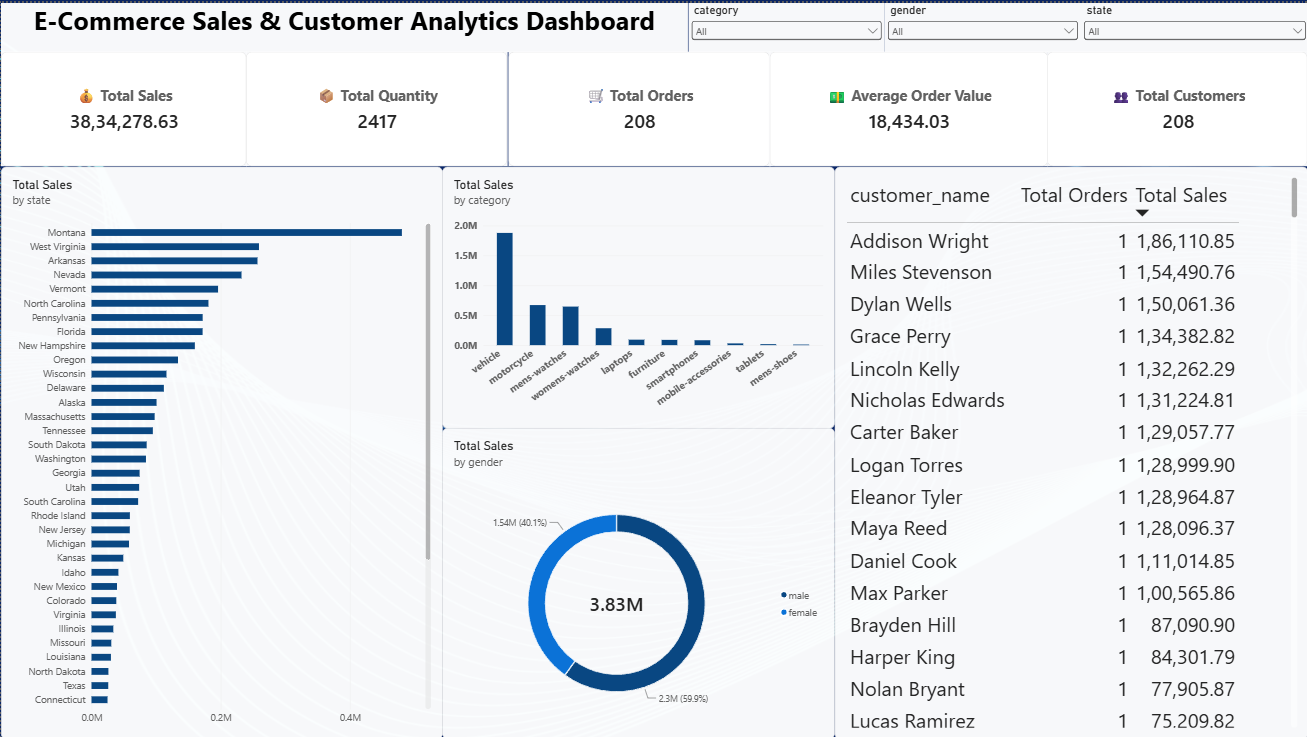

The page's visual inventory and layout, read from the dashboard file:
{"tool":"powerbi","page":{"name":"Page 1","canvas":[1920,1080],"ordinal":0},"visuals":[{"type":"cardVisual","fields":{"Data":["ecommerce_db fact_sales.Total Sales"]},"box":[0,72,360,168],"z":0},{"type":"cardVisual","fields":{"Data":["ecommerce_db fact_sales.Total Quantity"]},"box":[360,72,384,168],"z":1000},{"type":"cardVisual","fields":{"Data":["ecommerce_db fact_sales.Total Orders"]},"box":[744,72,384,168],"z":2000},{"type":"cardVisual","fields":{"Data":["ecommerce_db fact_sales.Average Order Value"]},"box":[1128,72,408,168],"z":3000},{"type":"cardVisual","fields":{"Data":["ecommerce_db fact_sales.Total Customers"]},"box":[1536,72,384,168],"z":4000},{"type":"clusteredColumnChart","fields":{"Y":["ecommerce_db fact_sales.Total Sales"],"Category":["ecommerce_db dim_product.category"]},"box":[648,240,576,384],"z":5000},{"type":"donutChart","fields":{"Category":["ecommerce_db dim_customer.gender"],"Y":["ecommerce_db fact_sales.Total Sales"]},"box":[648,624,576,456],"z":6000},{"type":"barChart","fields":{"Category":["ecommerce_db dim_customer.state"],"Y":["ecommerce_db fact_sales.Total Sales"]},"box":[0,240,648,840],"z":7000},{"type":"tableEx","fields":{"Values":["ecommerce_db dim_customer.customer_name","ecommerce_db fact_sales.Total Orders","ecommerce_db fact_sales.Total Sales"]},"box":[1224,240,696,840],"z":8000},{"type":"textbox","box":[0,0,1008,72],"z":9000},{"type":"slicer","fields":{"Values":["ecommerce_db dim_product.category"]},"box":[1008,0,288,72],"z":9001},{"type":"slicer","fields":{"Values":["ecommerce_db dim_customer.gender"]},"box":[1296,0,288,72],"z":9002},{"type":"slicer","fields":{"Values":["ecommerce_db dim_customer.state"]},"box":[1584,0,336,72],"z":9003}]}

Visuals, with their boxes in screenshot pixels (x1, y1, x2, y2), scaled from the page's 1920x1080 canvas onto the 1307x737 screenshot:
cardVisual - ecommerce_db fact_sales.Total Sales: Rect(0, 49, 245, 164)
cardVisual - ecommerce_db fact_sales.Total Quantity: Rect(245, 49, 506, 164)
cardVisual - ecommerce_db fact_sales.Total Orders: Rect(506, 49, 768, 164)
cardVisual - ecommerce_db fact_sales.Average Order Value: Rect(768, 49, 1046, 164)
cardVisual - ecommerce_db fact_sales.Total Customers: Rect(1046, 49, 1306, 164)
clusteredColumnChart - ecommerce_db fact_sales.Total Sales x ecommerce_db dim_product.category: Rect(441, 164, 833, 426)
donutChart - ecommerce_db dim_customer.gender x ecommerce_db fact_sales.Total Sales: Rect(441, 426, 833, 736)
barChart - ecommerce_db dim_customer.state x ecommerce_db fact_sales.Total Sales: Rect(0, 164, 441, 736)
tableEx - ecommerce_db dim_customer.customer_name x ecommerce_db fact_sales.Total Orders: Rect(833, 164, 1306, 736)
textbox: Rect(0, 0, 686, 49)
slicer - ecommerce_db dim_product.category: Rect(686, 0, 882, 49)
slicer - ecommerce_db dim_customer.gender: Rect(882, 0, 1078, 49)
slicer - ecommerce_db dim_customer.state: Rect(1078, 0, 1306, 49)
